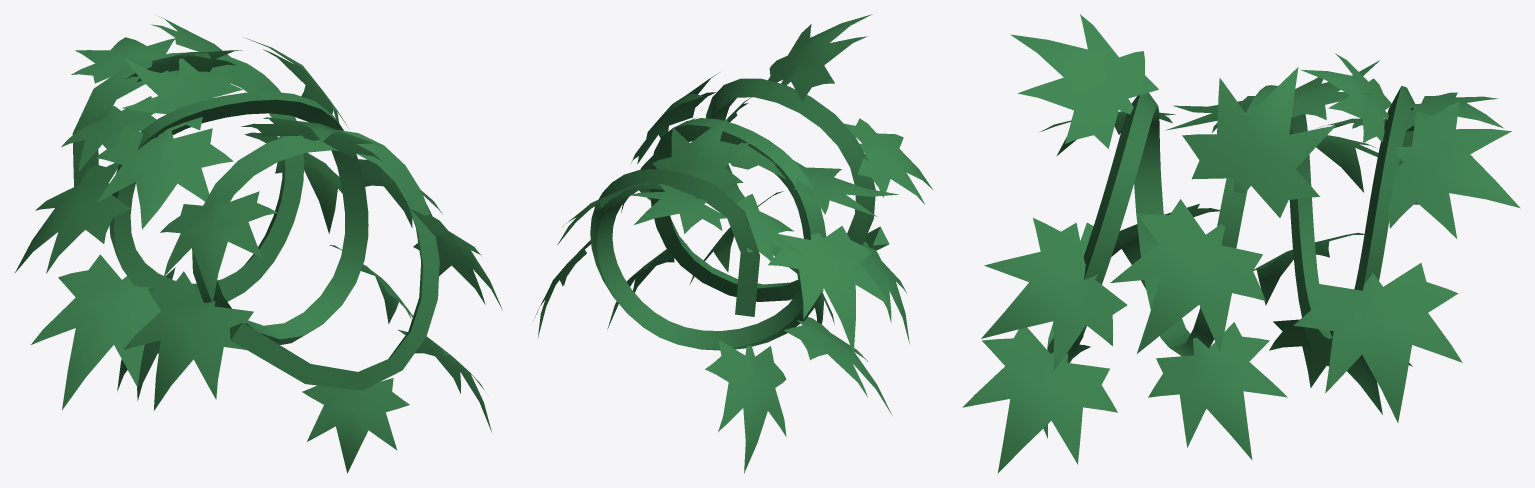
Rendered from vine_J_alangium.fbx.
3 renders of one model, left to right at view 1: azimuth 30°, elevation 25°; view 2: azimuth 150°, elevation 25°; view 3: azimuth 270°, elevation 25°, orthographic. The views are drawn at different scales.
Parts seen in each view (by area): view 1: vine_J_alangium_root, vine_J_alangium_A_leaf_B8, vine_J_alangium_A_leaf_B18, vine_J_alangium_A_leaf_B10, vine_J_alangium_A_leaf_B19, vine_J_alangium_A_leaf_B23, vine_J_alangium_A_leaf_B9, vine_J_alangium_A_leaf_B11, vine_J_alangium_A_leaf_B21, vine_J_alangium_A_leaf_B4, vine_J_alangium_A_leaf_B5, vine_J_alangium_A_leaf_B20 (+8 smaller); view 2: vine_J_alangium_root, vine_J_alangium_A_leaf_B9, vine_J_alangium_A_leaf_B7, vine_J_alangium_A_leaf_B20, vine_J_alangium_A_leaf_B3, vine_J_alangium_A_leaf_B19, vine_J_alangium_A_leaf_B8, vine_J_alangium_A_leaf_B5, vine_J_alangium_A_leaf_B10, vine_J_alangium_A_leaf_B4, vine_J_alangium_A_leaf_B12, vine_J_alangium_A_leaf_B18 (+5 smaller); view 3: vine_J_alangium_root, vine_J_alangium_A_leaf_B, vine_J_alangium_A_leaf_B14, vine_J_alangium_A_leaf_B12, vine_J_alangium_A_leaf_B22, vine_J_alangium_A_leaf_B21, vine_J_alangium_A_leaf_B2, vine_J_alangium_A_leaf_B20, vine_J_alangium_A_leaf_B15, vine_J_alangium_A_leaf_B3, vine_J_alangium_A_leaf_B7, vine_J_alangium_A_leaf_B11 (+5 smaller).
Part boxes in pixels (<box>): vine_J_alangium_root: <box>72,52,439,390</box>; vine_J_alangium_A_leaf_B8: <box>31,254,160,409</box>; vine_J_alangium_A_leaf_B18: <box>124,271,253,410</box>; vine_J_alangium_A_leaf_B10: <box>95,126,233,229</box>; vine_J_alangium_A_leaf_B19: <box>160,191,277,303</box>; vine_J_alangium_A_leaf_B23: <box>302,378,409,473</box>; vine_J_alangium_A_leaf_B9: <box>15,163,130,273</box>; vine_J_alangium_A_leaf_B11: <box>121,58,242,135</box>; vine_J_alangium_A_leaf_B21: <box>409,208,502,309</box>; vine_J_alangium_A_leaf_B4: <box>61,96,156,171</box>; vine_J_alangium_A_leaf_B5: <box>71,37,175,83</box>; vine_J_alangium_A_leaf_B20: <box>241,117,382,161</box>; vine_J_alangium_root: <box>590,78,889,350</box>; vine_J_alangium_A_leaf_B9: <box>768,226,889,352</box>; vine_J_alangium_A_leaf_B7: <box>705,339,786,473</box>; vine_J_alangium_A_leaf_B20: <box>768,14,872,101</box>; vine_J_alangium_A_leaf_B3: <box>651,118,750,189</box>; vine_J_alangium_A_leaf_B19: <box>844,118,932,204</box>; vine_J_alangium_A_leaf_B8: <box>784,317,892,415</box>; vine_J_alangium_A_leaf_B5: <box>629,184,728,233</box>; vine_J_alangium_A_leaf_B10: <box>793,160,898,216</box>; vine_J_alangium_A_leaf_B4: <box>732,194,802,265</box>; vine_J_alangium_A_leaf_B12: <box>630,72,719,164</box>; vine_J_alangium_A_leaf_B18: <box>859,241,909,343</box>; vine_J_alangium_root: <box>1047,85,1418,366</box>; vine_J_alangium_A_leaf_B: <box>1293,263,1462,422</box>; vine_J_alangium_A_leaf_B14: <box>1110,199,1265,353</box>; vine_J_alangium_A_leaf_B12: <box>1182,67,1335,217</box>; vine_J_alangium_A_leaf_B22: <box>962,327,1117,473</box>; vine_J_alangium_A_leaf_B21: <box>981,218,1127,370</box>; vine_J_alangium_A_leaf_B2: <box>1372,101,1520,238</box>; vine_J_alangium_A_leaf_B20: <box>1010,14,1158,148</box>; vine_J_alangium_A_leaf_B15: <box>1148,322,1287,459</box>; vine_J_alangium_A_leaf_B3: <box>1300,53,1391,143</box>; vine_J_alangium_A_leaf_B7: <box>1269,319,1412,414</box>; vine_J_alangium_A_leaf_B11: <box>1291,60,1379,119</box>.
Bounding box in the file's own units: 58.62 × 61.61 × 77.23.
